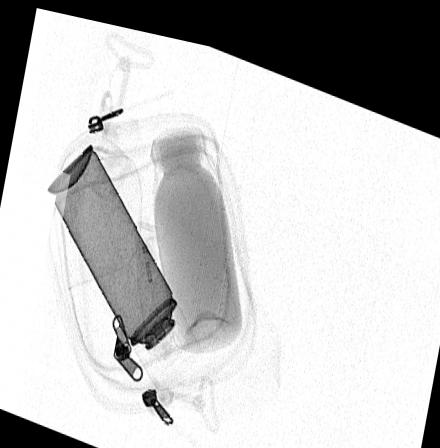Sprayer: (47, 139, 199, 383)
